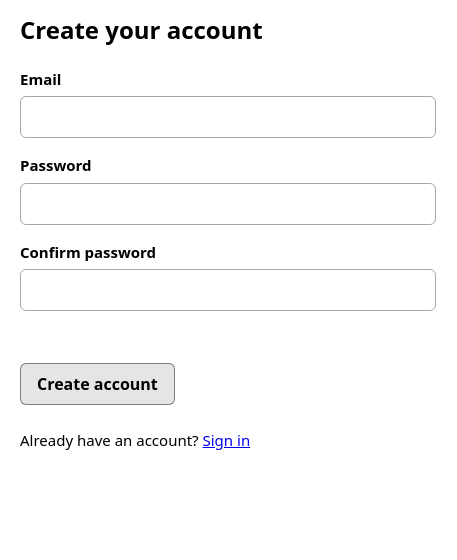
RegisterPage › maps a password-rule 400 to the password field
The image size is (457, 560).
Type "new@example.com" into the field labelled "Email".
click(228, 117); type("new@example.com")  # box [20, 96, 436, 138]
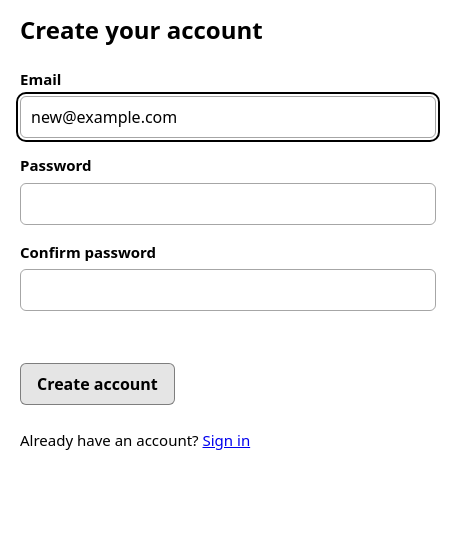
Type "password" into the password field labelled "Password".
click(228, 204); type("password")  # box [20, 183, 436, 225]
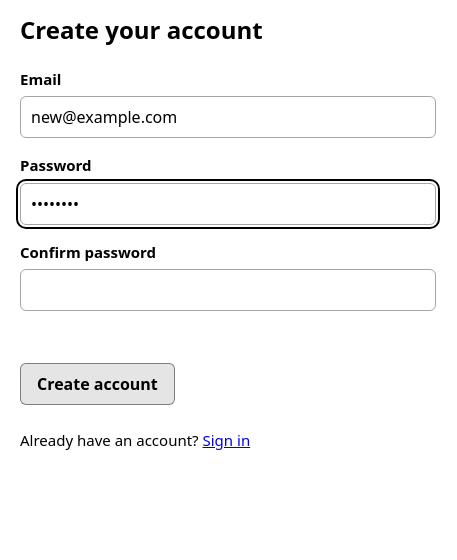
Type "password" into the password field labelled "Confirm password".
click(228, 290); type("password")  # box [20, 269, 436, 311]
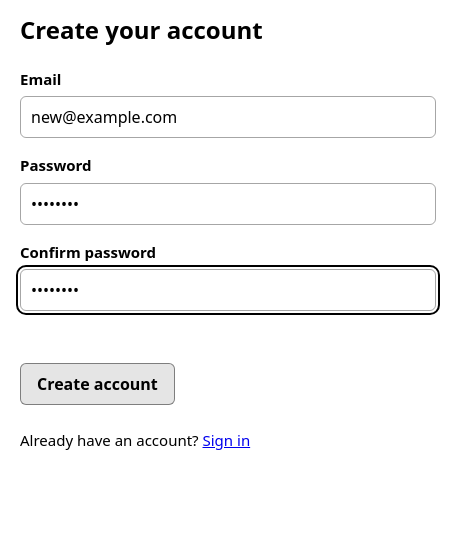
Click the button "Create account".
click(97, 384)  # box [20, 363, 175, 405]
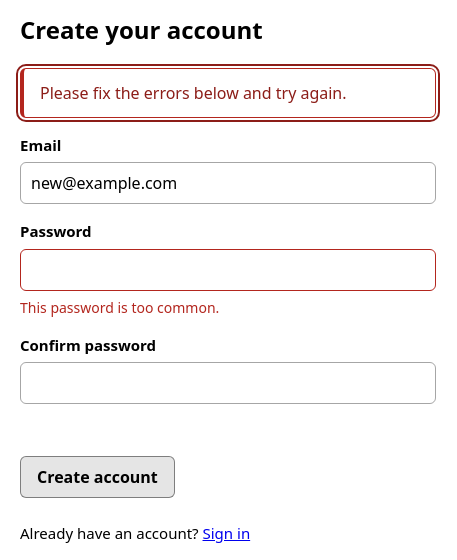
Now the text "This password is too common." is shown, box [20, 298, 219, 317]
